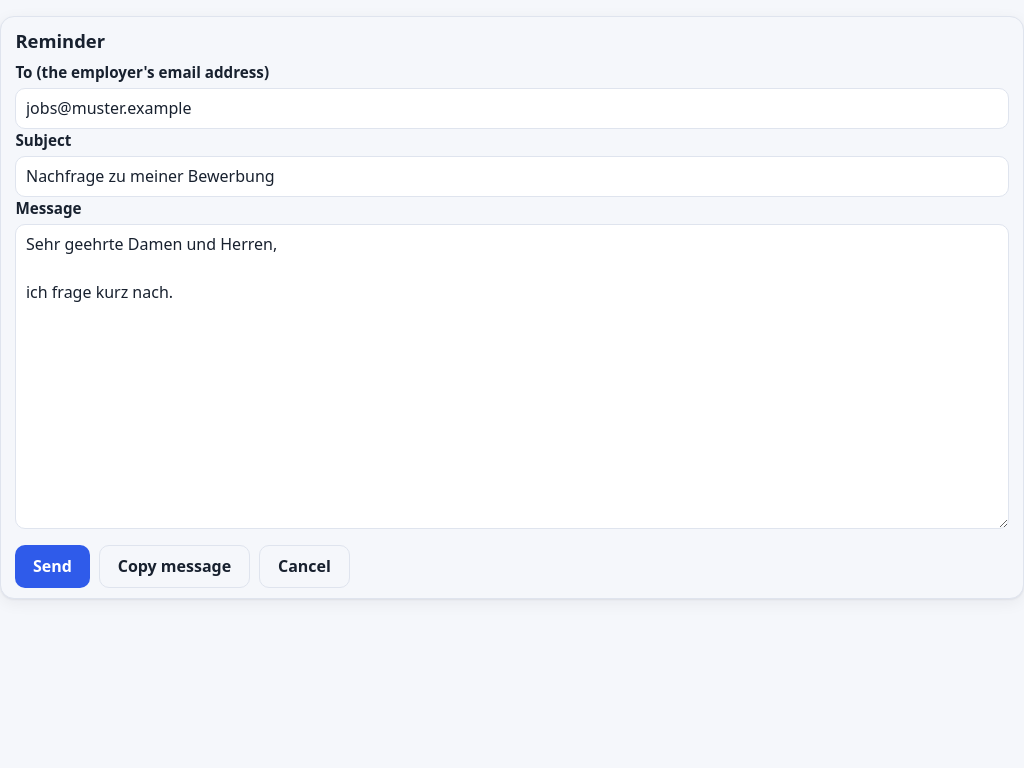
Test: MailDraftDialog › editing the message after Copy hides "Copied." and the after-copy button (the copied text is no longer this one)
The image size is (1024, 768).
Expected: the field labelled "Subject" is shown, [15,156,1009,197]
Click the button "Copy message" at (174, 566), box [99,544,250,588]
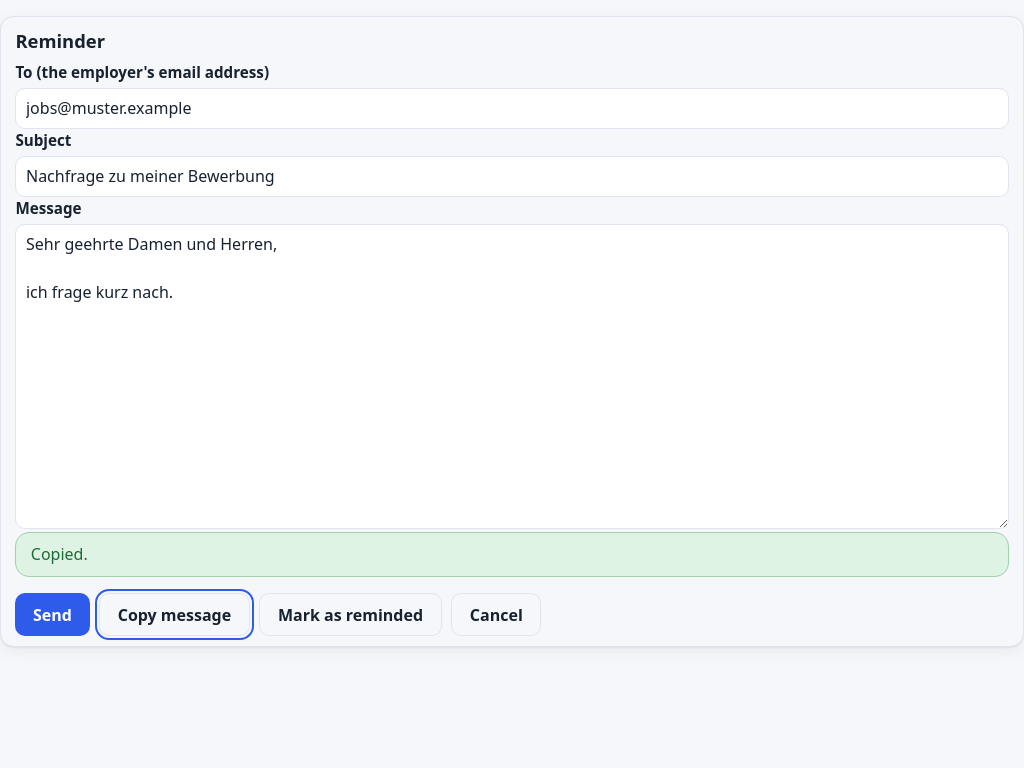
Now the text "Copied." is shown, box [15,532,1009,577]
Type " X" into the text box labelled "Message" at (512, 376), box [15,224,1009,528]
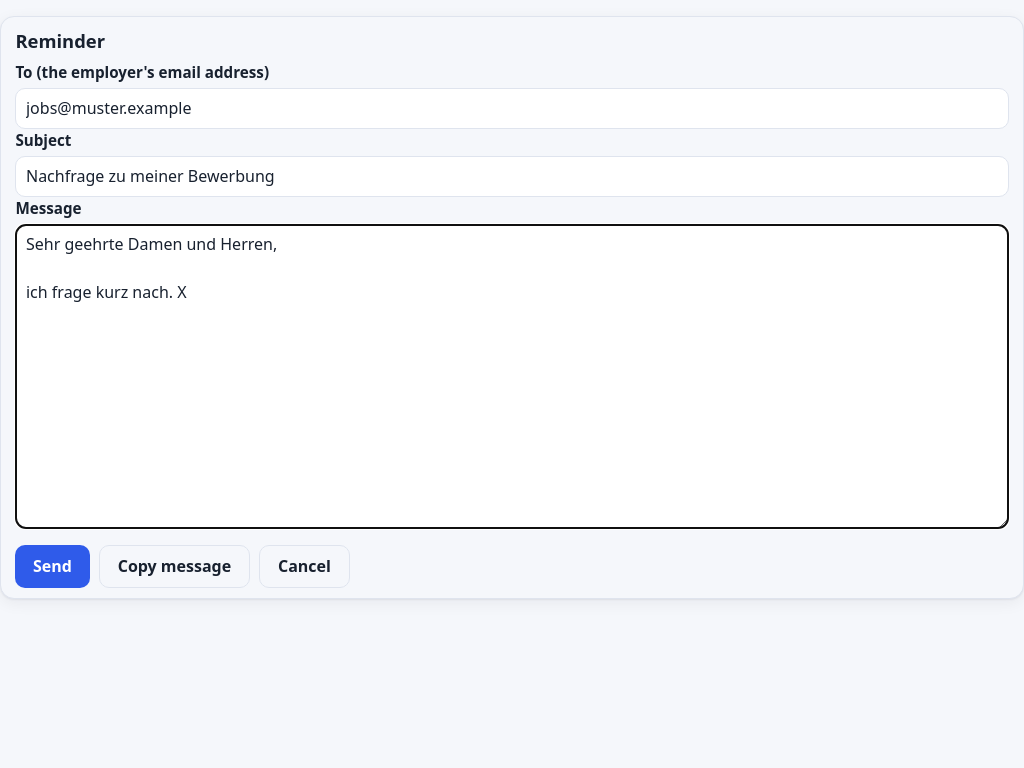
Now the text "Copied." is gone
Now the button "Mark as reminded" is gone
